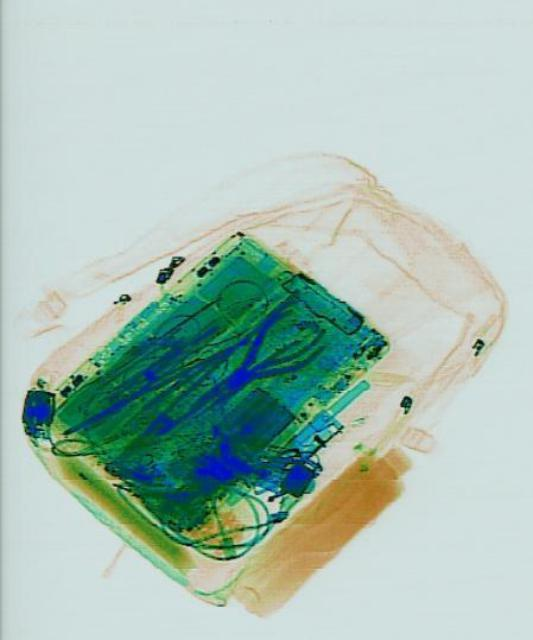Pliers: (152, 292, 325, 452), (179, 288, 326, 432)
